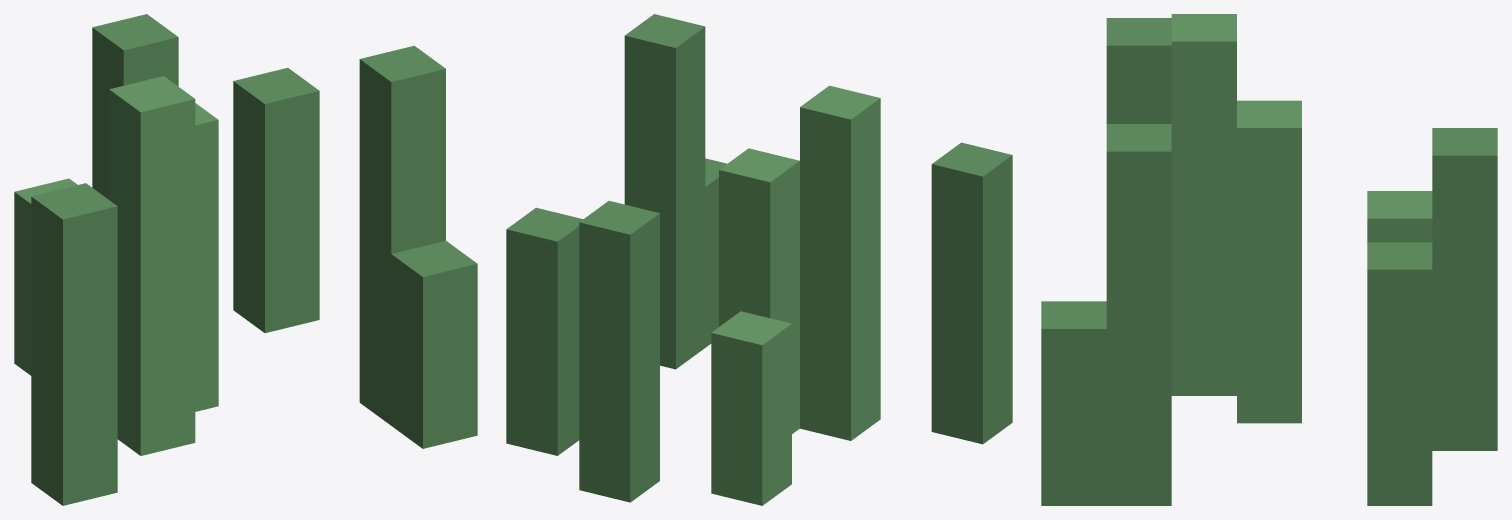
The model's file is helecho_05.glb.
3 renders of one model, left to right at view 1: azimuth 30°, elevation 25°; view 2: azimuth 150°, elevation 25°; view 3: azimuth 270°, elevation 25°, orthographic. The views are drawn at different scales.
Visible parts, largest first — view 1: helecho_05; view 2: helecho_05; view 3: helecho_05.
Boxes of the visible parts, x1,y1,x2,y2 form: helecho_05: (14,14,477,505); helecho_05: (506,14,1012,505); helecho_05: (1041,14,1497,505).
Size of the model in its own units: 0.7 by 0.6 by 0.7.
